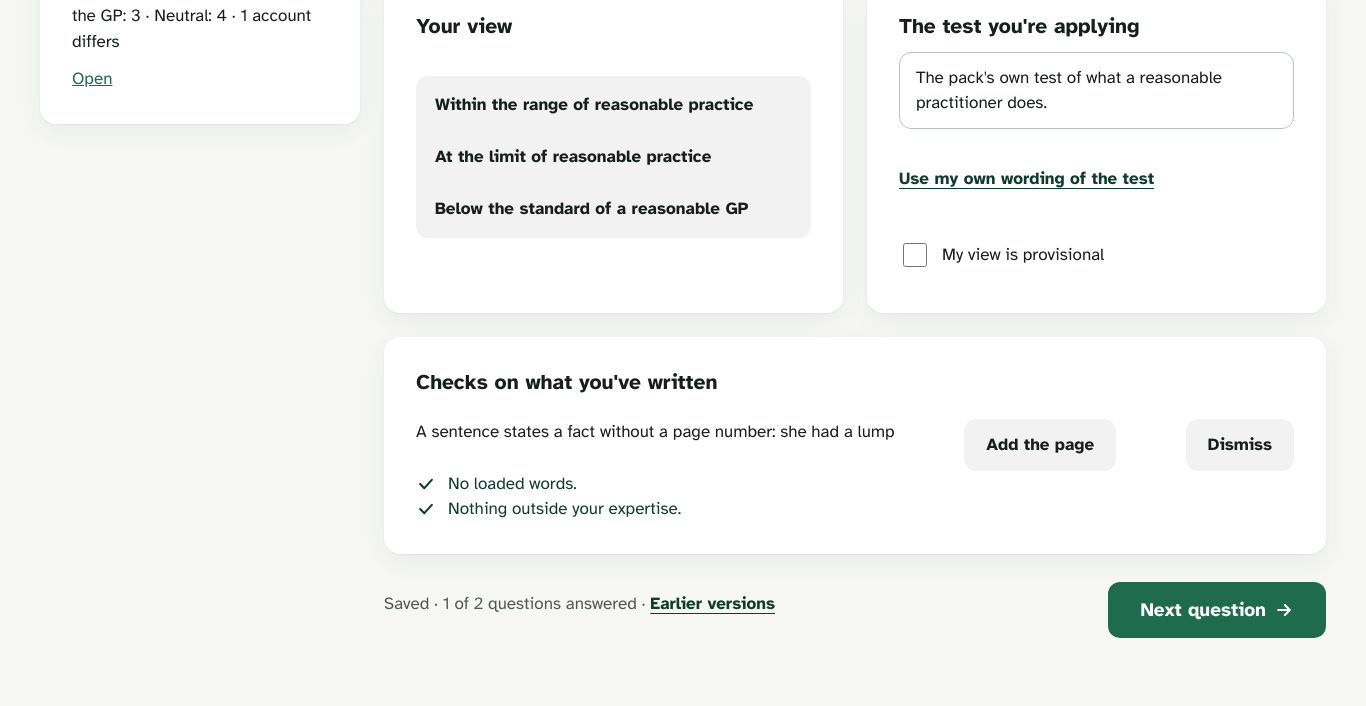
Scenario: open checks are listed, and dismissing one asks for a reason
The width and height of the screenshot is (1366, 706).
(page scrolled)
expect the text "A sentence states a fact without a page number: she had a lump" is shown: met, box [416,421,895,442]
Click the button "Dismiss" at [1240, 445], box [1186,419,1294,471]
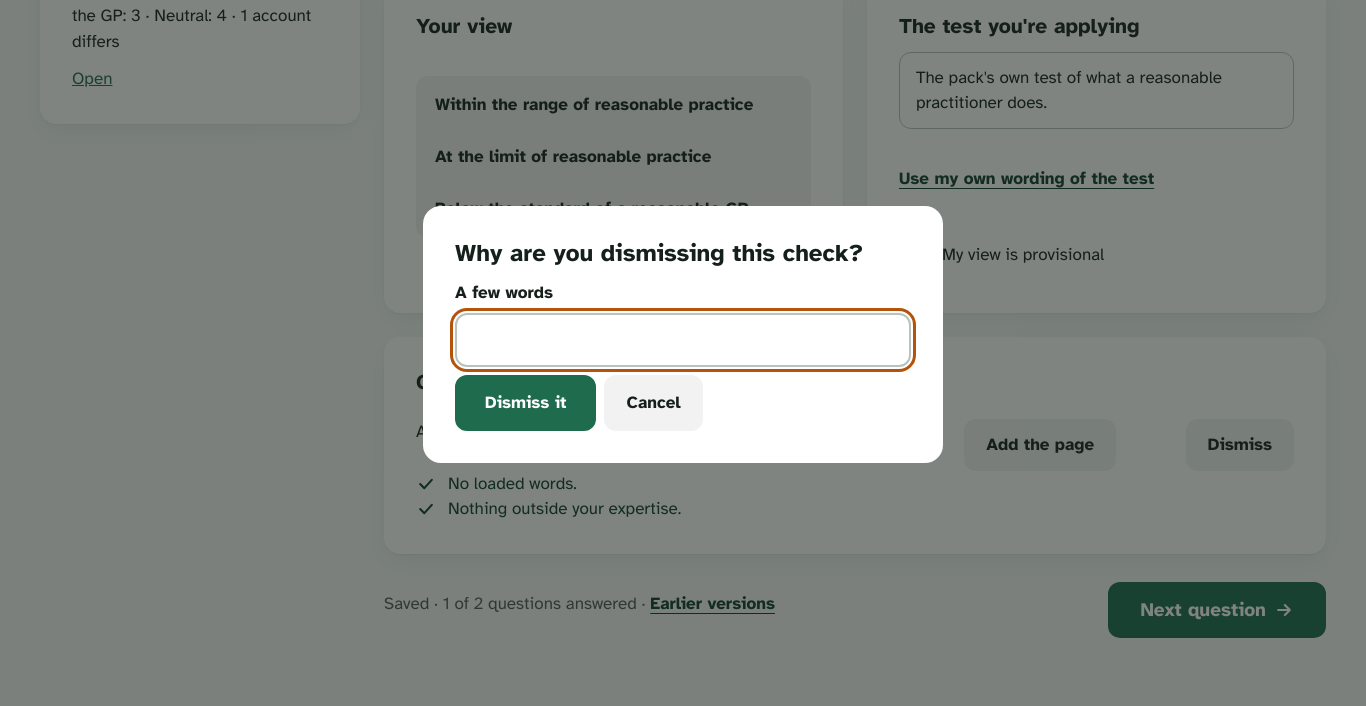
Type "It is my own note" into the field labelled "A few words" at [683, 340], box [455,313,911,366]
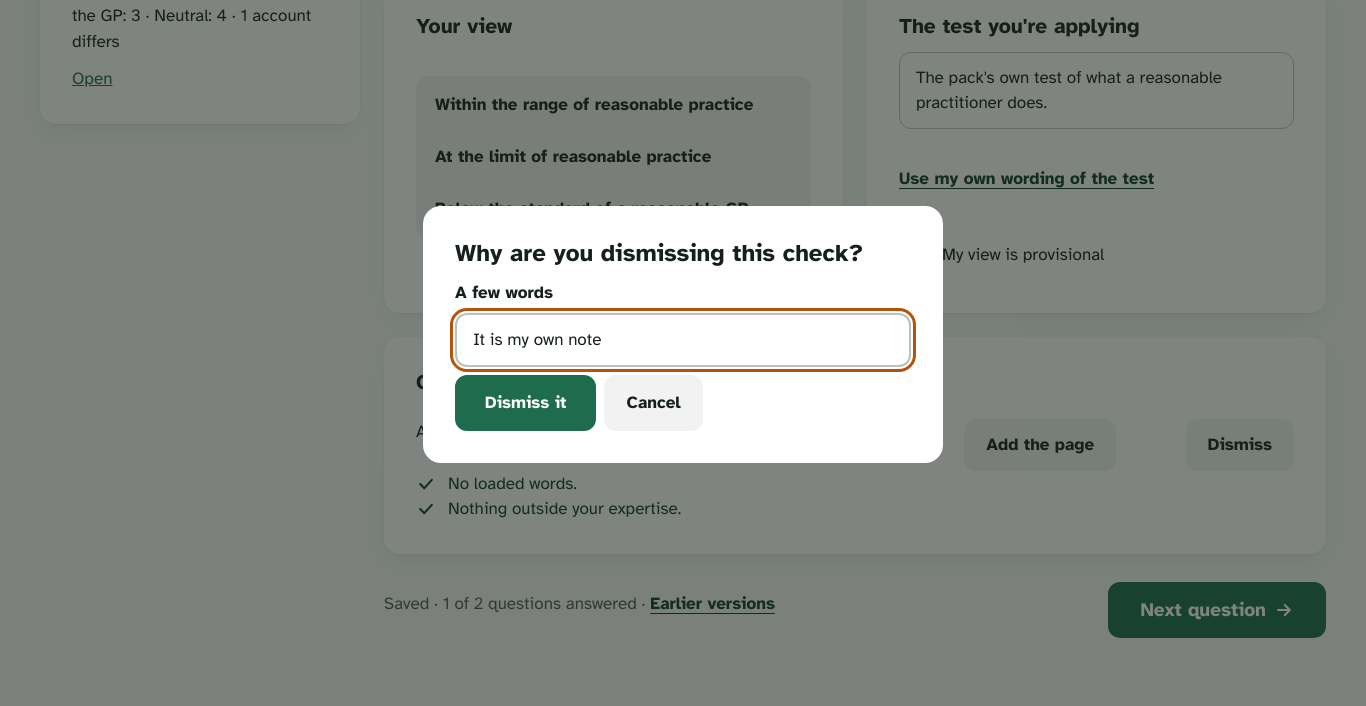
Click the button "Dismiss it" at [526, 402], box [455,374,596,430]
(page scrolled)
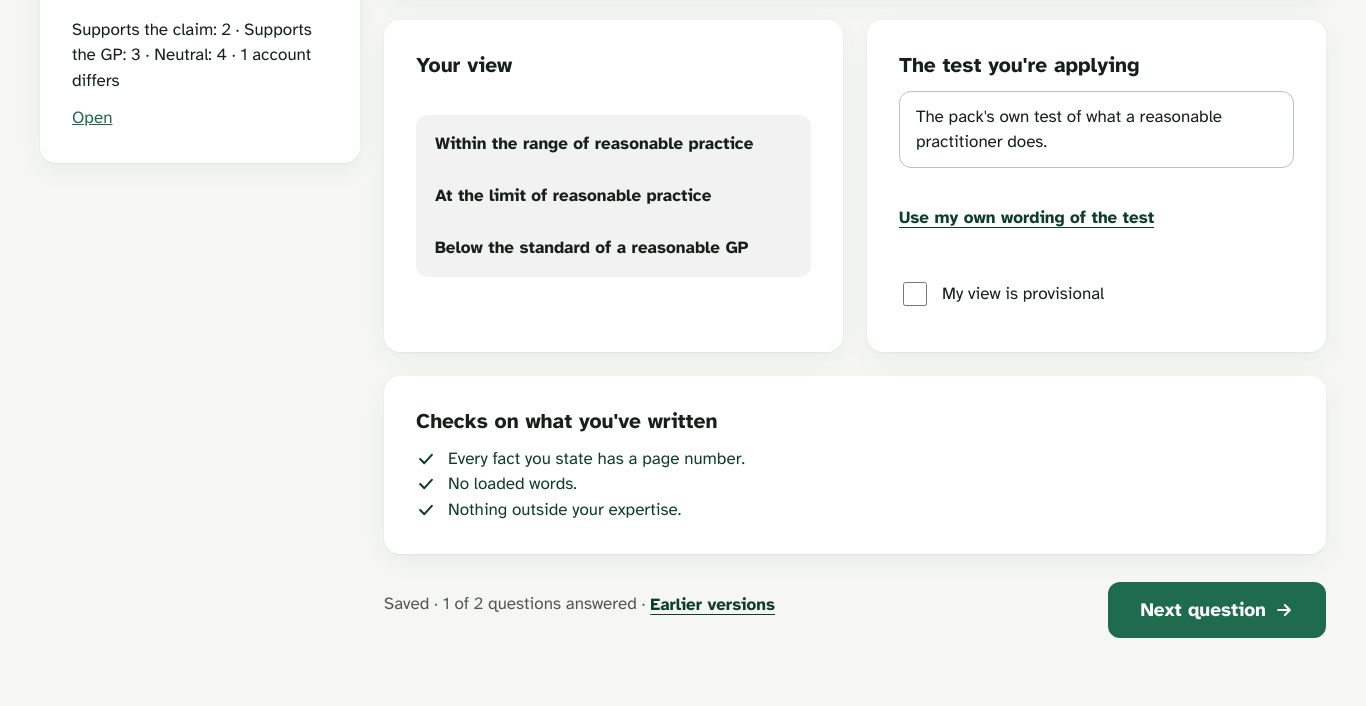
expect the text "she had a lump" is gone: met
